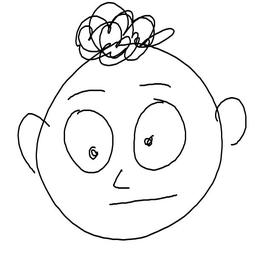ear: (7, 102, 49, 178), (209, 89, 249, 151)
eye: (127, 95, 190, 173), (60, 109, 115, 176)
eyebrow: (64, 84, 106, 102), (139, 78, 179, 94)
line_unsmiling_mouth: (106, 192, 182, 208)
pointy_nose: (111, 168, 130, 191)
